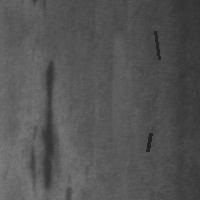inclusion: (25, 56, 63, 195), (153, 29, 161, 61), (145, 131, 152, 153)
